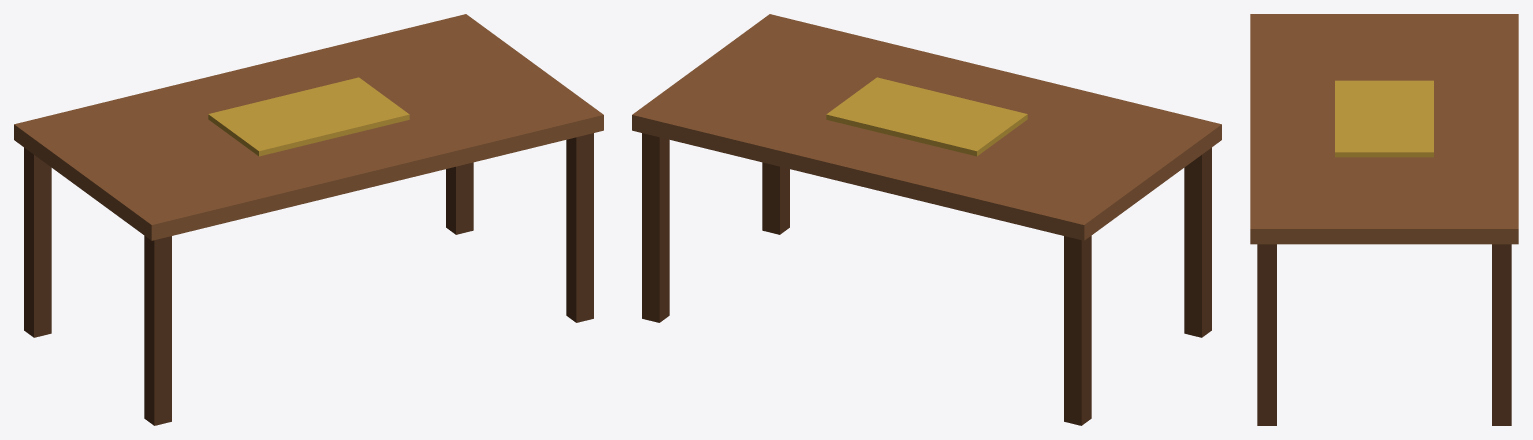
File: diningTable.glb
3 views of the same model, side by side, from view 1: azimuth 30°, elevation 25°; view 2: azimuth 150°, elevation 25°; view 3: azimuth 270°, elevation 25° (orthographic). The views are drawn at different scales.
Parts seen in each view (by area): view 1: diningTable-8a5a35, diningTable-5e3b22, diningTable-c9a13b; view 2: diningTable-8a5a35, diningTable-5e3b22, diningTable-c9a13b; view 3: diningTable-8a5a35, diningTable-c9a13b, diningTable-5e3b22.
Boxes of the visible parts, <box> form: diningTable-8a5a35: <box>14,14,603,240</box>; diningTable-5e3b22: <box>24,133,593,425</box>; diningTable-c9a13b: <box>208,77,409,156</box>; diningTable-8a5a35: <box>632,14,1221,240</box>; diningTable-5e3b22: <box>642,133,1211,425</box>; diningTable-c9a13b: <box>826,77,1027,156</box>; diningTable-8a5a35: <box>1250,14,1518,244</box>; diningTable-c9a13b: <box>1335,80,1433,157</box>; diningTable-5e3b22: <box>1257,244,1511,425</box>.
Size of the model in its own units: 1.8 by 0.8 by 0.95.
